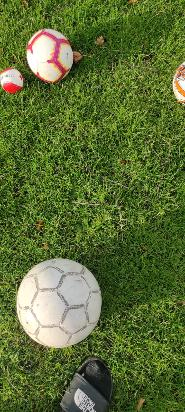Football mini: (24, 24, 74, 84)
Football size 5: (16, 257, 101, 347)
Honkball: (0, 68, 22, 92)
